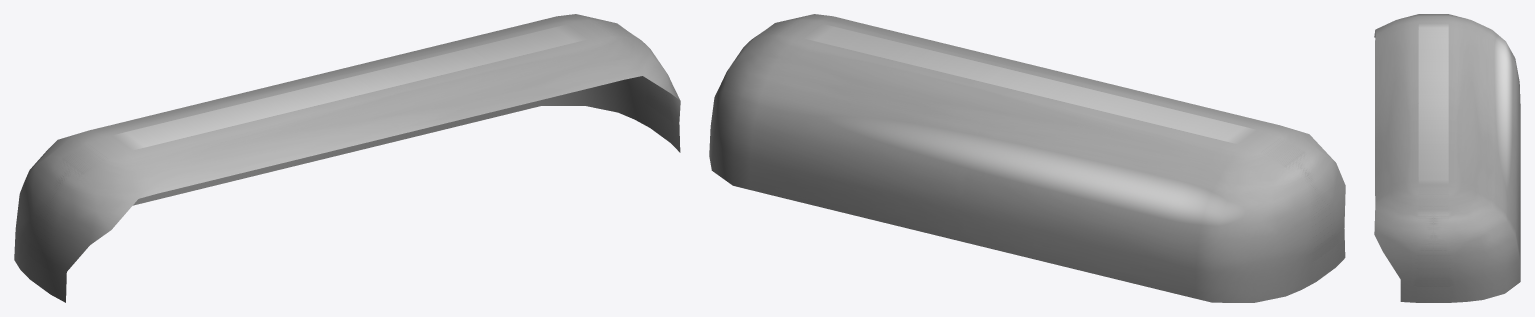
Rendered from note_top.obj.
3 views of the same model, side by side, from view 1: azimuth 30°, elevation 25°; view 2: azimuth 150°, elevation 25°; view 3: azimuth 270°, elevation 25° (orthographic). The views are drawn at different scales.
Visible parts, largest first — view 1: note_top; view 2: note_top; view 3: note_top.
Boxes of the visible parts, bbox=[...] form: note_top: bbox=[14, 14, 680, 302]; note_top: bbox=[709, 14, 1345, 302]; note_top: bbox=[1374, 14, 1520, 302].
Size of the model in its own units: 0.7458 by 0.1424 by 0.2104.
Materials: 1 (1 with a texture image).
